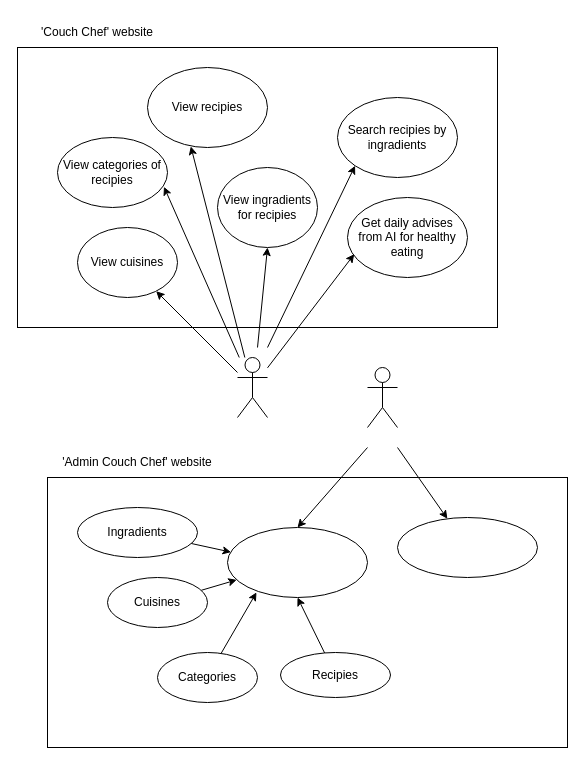
Some shapes in this 585 by 765 pixel diagram are drawn without their labels. Each missing label, with the box of its shape:
Admin: (366, 366, 398, 428)
Get/Add/Edit/Delete: (226, 526, 368, 598)
Get/Edit/Delete daily advises from AI for healthy eating: (396, 516, 538, 578)
User: (236, 356, 268, 418)
